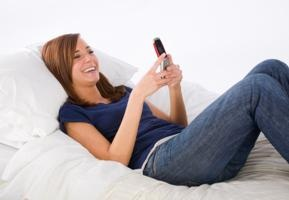person without safety: (38, 30, 146, 141)
